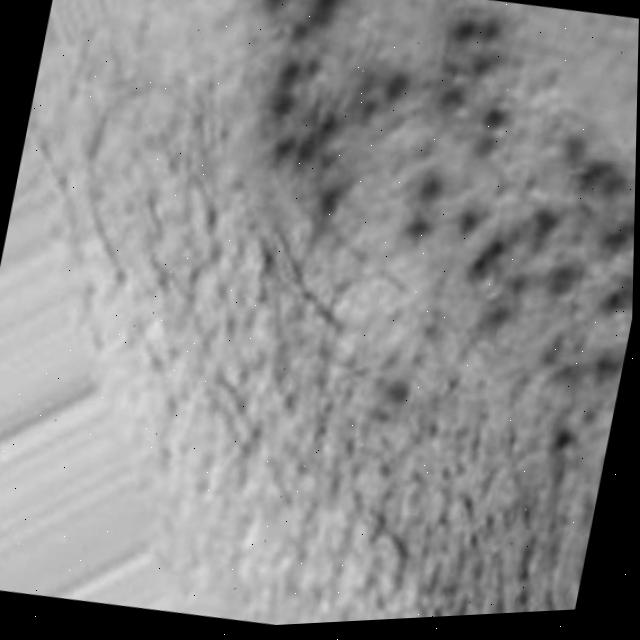Shingles: (206, 0, 640, 436)
